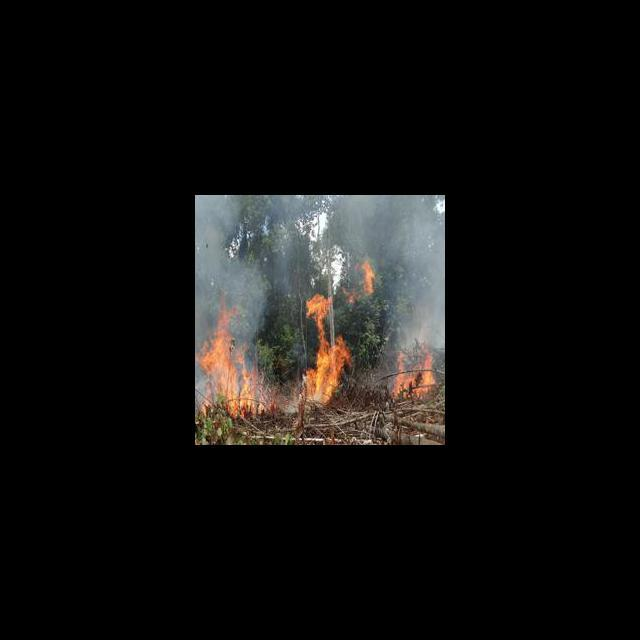Fire: (197, 294, 270, 416), (300, 295, 352, 405), (388, 345, 442, 401), (356, 258, 379, 298)
